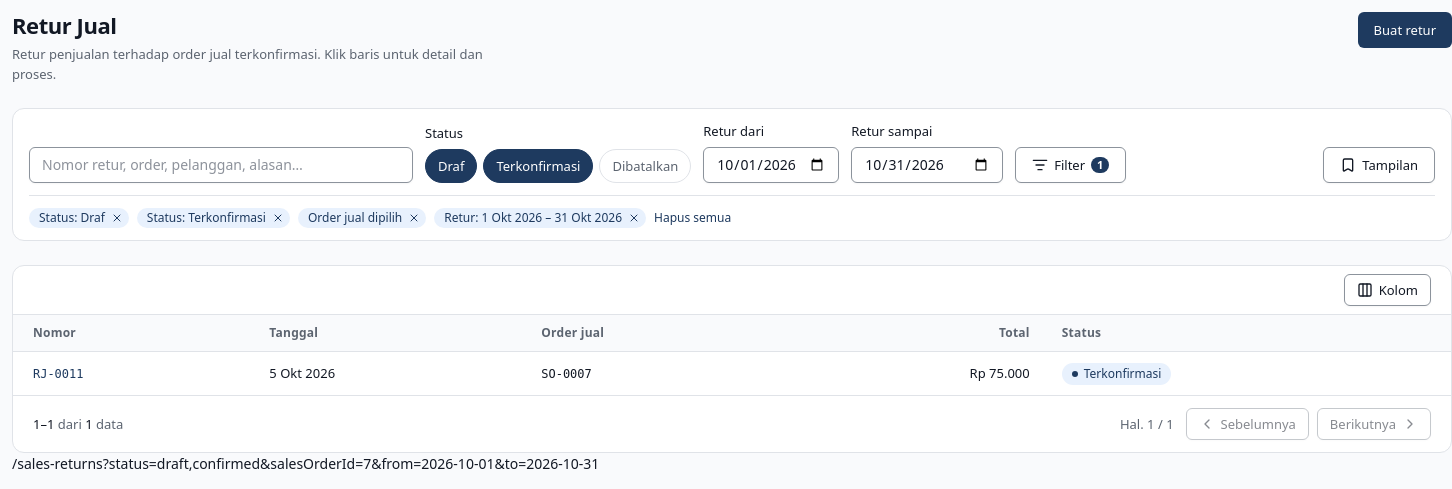
it: daftar retur jual › filter dibaca dari URL dan diteruskan ke server; chip filter aktif bisa dihapus
The image size is (1452, 489).
Check: the text "RJ-0011" is shown, box [33, 364, 83, 384]
Check: the text "Order jual dipilih" is shown, box [298, 208, 426, 228]
Hapus satu status lewat chip: URL ikut berubah dan daftar dimuat ulang.
Click the button named "Hapus filter Status: Draf".
click(117, 218)  # box [109, 210, 125, 226]
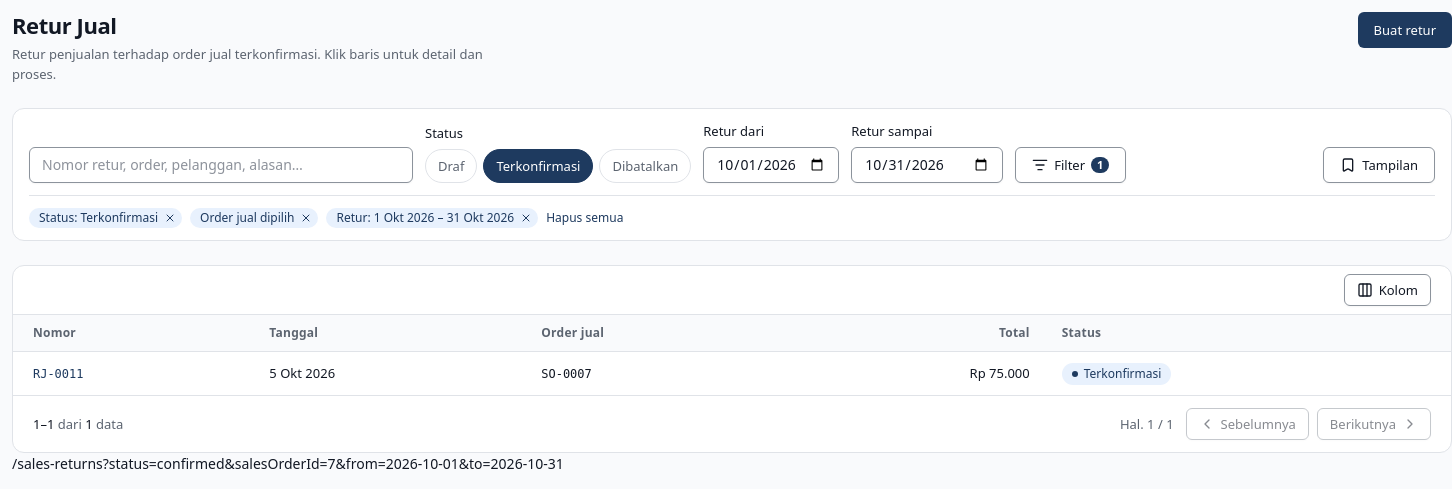
Check: the text with test id "loc" no longer shows "draft", box [12, 454, 564, 472]
